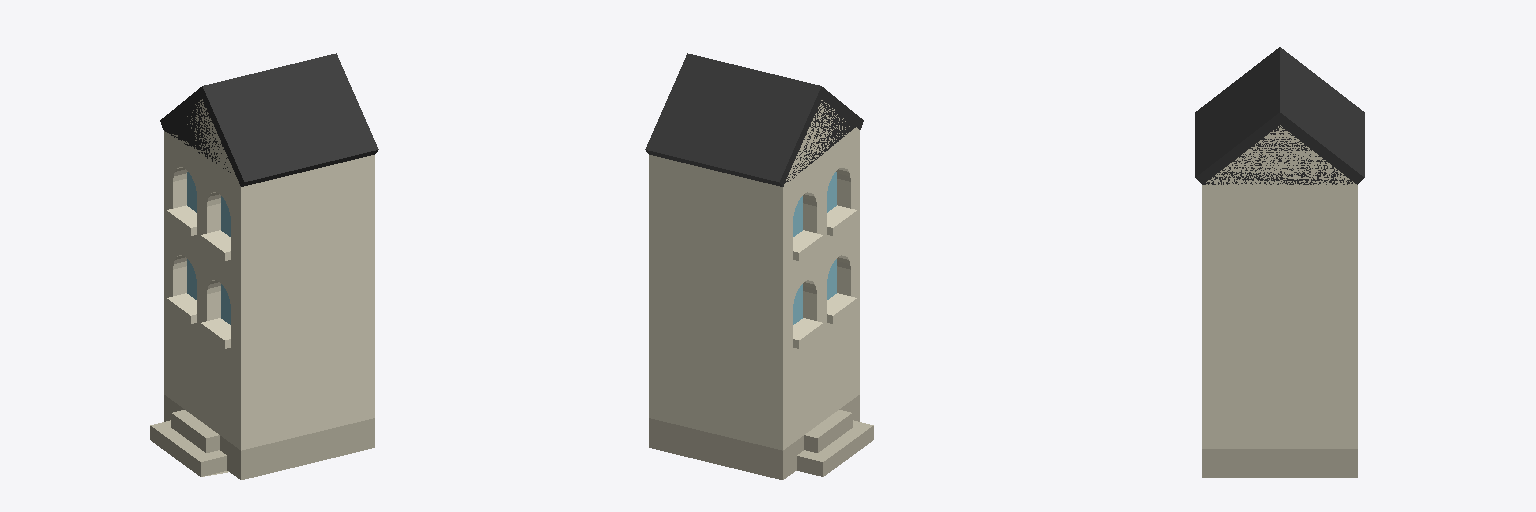
File: TallHouse.obj
The picture shows the model from 3 angles: view 1: azimuth 30°, elevation 25°; view 2: azimuth 150°, elevation 25°; view 3: azimuth 270°, elevation 25°; orthographic projection.
Parts seen in each view (by area): view 1: Mesh1_Group1_Model.448_Mesh1_Group1_Model.464; view 2: Mesh1_Group1_Model.448_Mesh1_Group1_Model.464; view 3: Mesh1_Group1_Model.448_Mesh1_Group1_Model.464.
Part boxes in pixels (x1,y1,x2,y2): Mesh1_Group1_Model.448_Mesh1_Group1_Model.464: (150, 53, 378, 479); Mesh1_Group1_Model.448_Mesh1_Group1_Model.464: (645, 53, 873, 479); Mesh1_Group1_Model.448_Mesh1_Group1_Model.464: (1195, 47, 1364, 477).
Bounding box in the file's own units: 2.58 × 5.61 × 2.35.